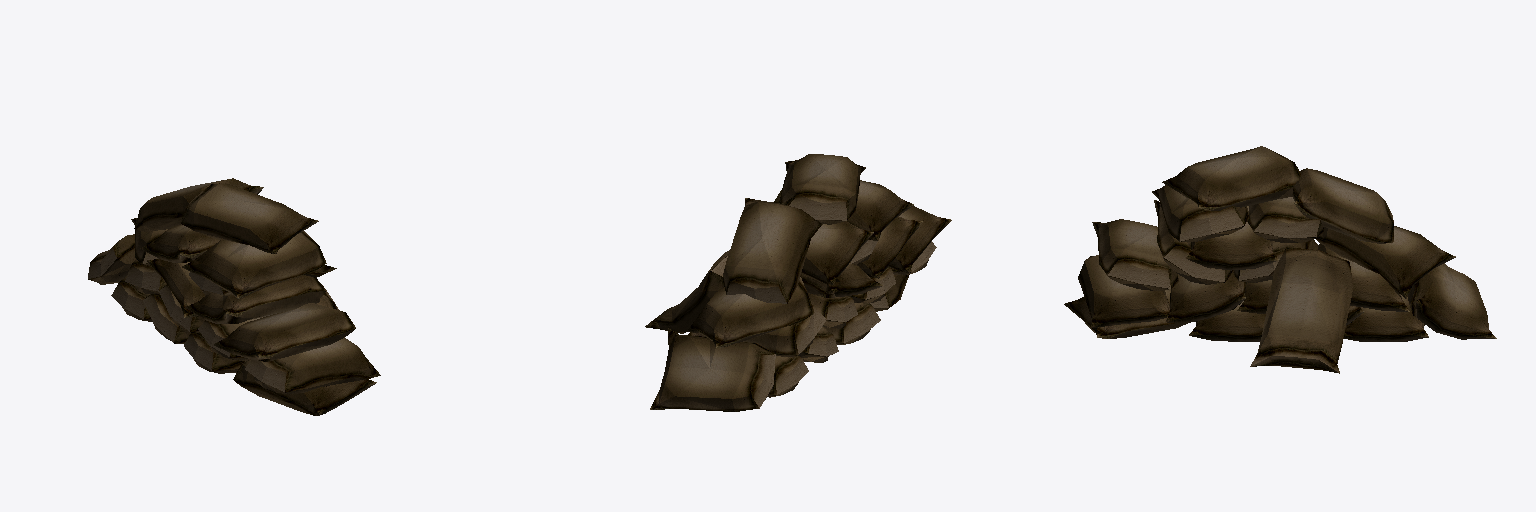
The picture shows the model from 3 angles: view 1: azimuth 30°, elevation 25°; view 2: azimuth 150°, elevation 25°; view 3: azimuth 270°, elevation 25°; orthographic projection.
Parts seen in each view (by area): view 1: bags_DIF.JPG; view 2: bags_DIF.JPG; view 3: bags_DIF.JPG.
Boxes of the visible parts, x1,y1,x2,y2 form: bags_DIF.JPG: [88, 178, 380, 415]; bags_DIF.JPG: [645, 154, 951, 411]; bags_DIF.JPG: [1064, 146, 1496, 373].
Size of the model in its own units: 38.84 by 32.16 by 77.75.
1 materials, 1 textured.